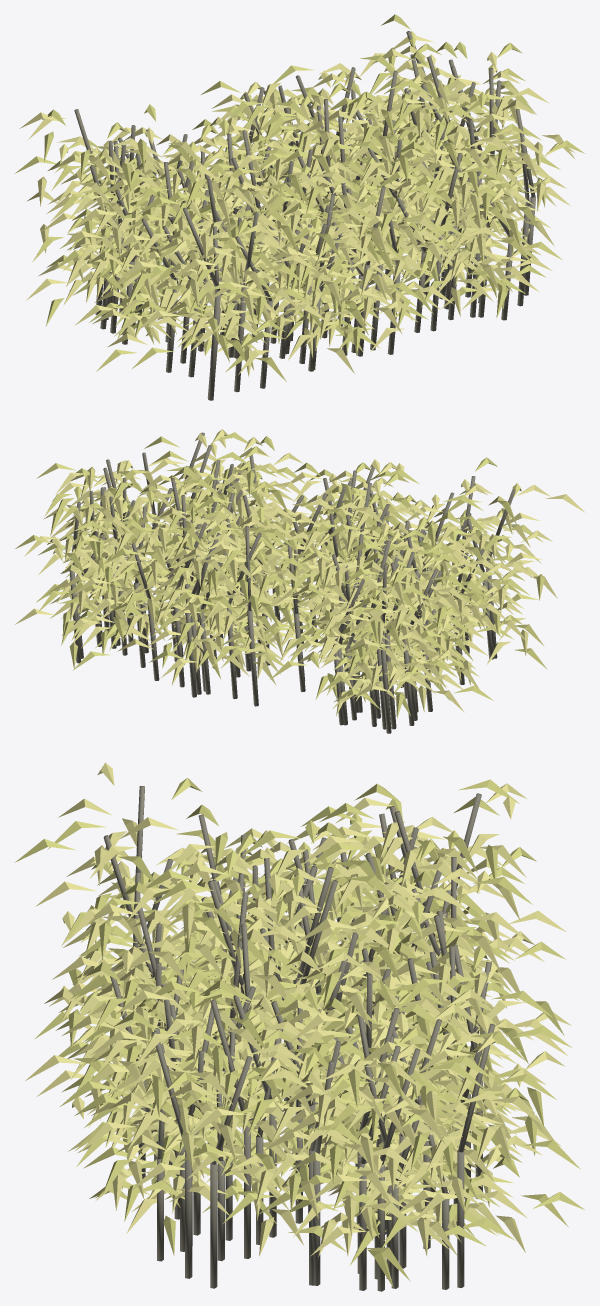
Rendered from dongpo-left-yellow.glb.
3 views of the same model, one above another, from view 1: azimuth 30°, elevation 25°; view 2: azimuth 150°, elevation 25°; view 3: azimuth 270°, elevation 25° (orthographic). The views are drawn at different scales.
Parts seen in each view (by area): view 1: dongpo-left-yellow; view 2: dongpo-left-yellow; view 3: dongpo-left-yellow.
Boxes of the visible parts, x1,y1,x2,y2 form: dongpo-left-yellow: [14, 14, 585, 400]; dongpo-left-yellow: [15, 429, 585, 733]; dongpo-left-yellow: [14, 762, 584, 1291].
Size of the model in its own units: 3.33 by 1.26 by 2.45.
